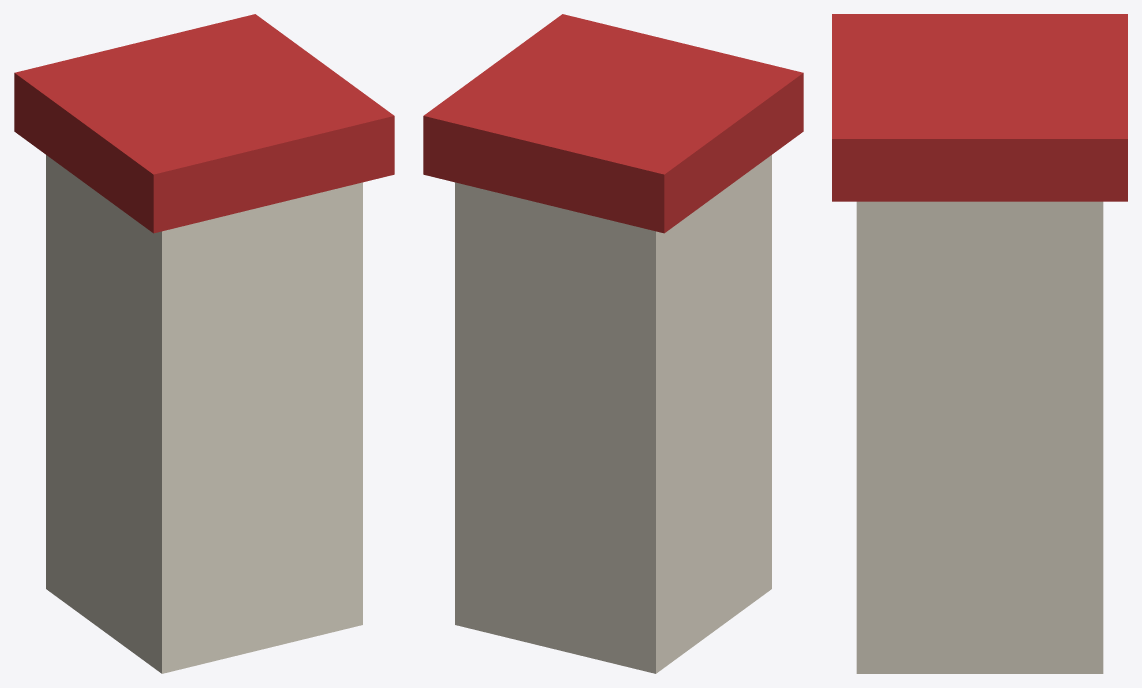
Rendered from barrier_post.glb.
The picture shows the model from 3 angles, left to right: view 1: azimuth 30°, elevation 25°; view 2: azimuth 150°, elevation 25°; view 3: azimuth 270°, elevation 25°; orthographic projection. The views are drawn at different scales.
Parts seen in each view (by area): view 1: barrier_post; view 2: barrier_post; view 3: barrier_post.
Part boxes in pixels (box(x1,y1,x2,y2)): barrier_post: box(14, 14, 394, 673); barrier_post: box(423, 14, 803, 673); barrier_post: box(832, 14, 1127, 673).
Size of the model in its own units: 0.6 by 1.22 by 0.6.
